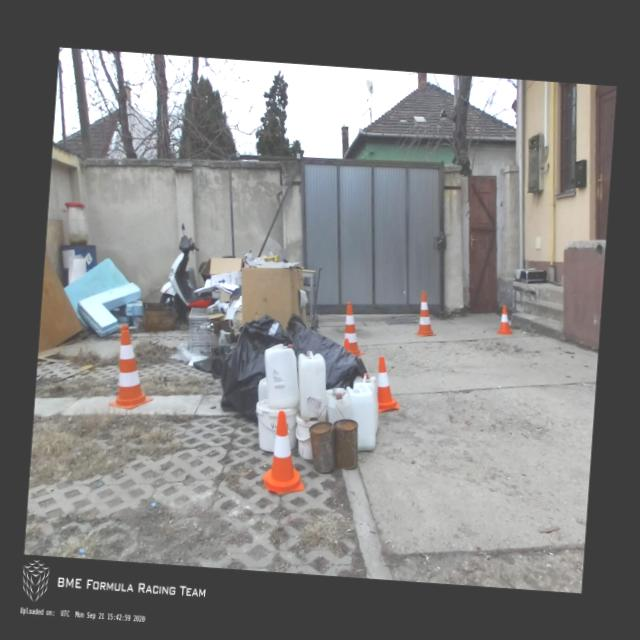large_orange_cone: (109, 324, 158, 410), (342, 302, 368, 356), (414, 291, 438, 337)
orange_cone: (262, 410, 308, 496), (374, 357, 402, 413), (498, 306, 514, 334)
